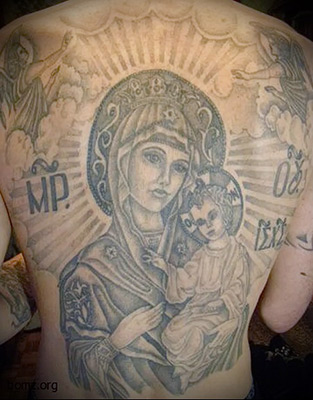tatu1_angel: (1, 16, 76, 155), (225, 16, 313, 128)
tatu2_bogorodica: (59, 65, 254, 400)
